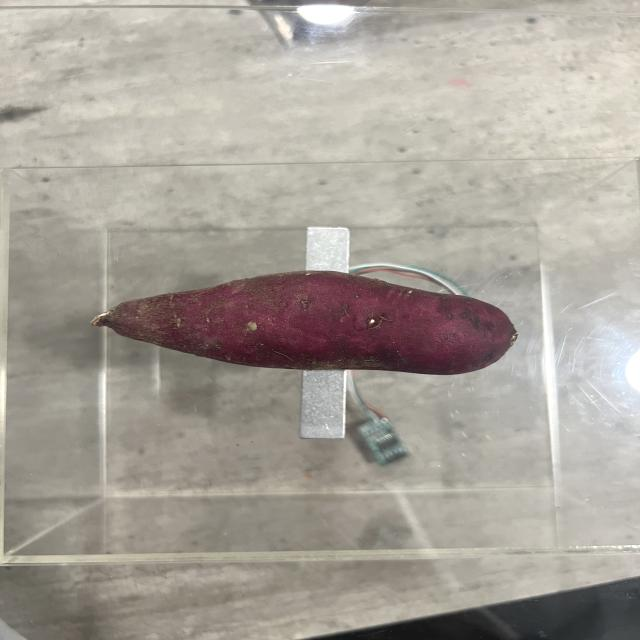sweet potato: (100, 264, 515, 380)
